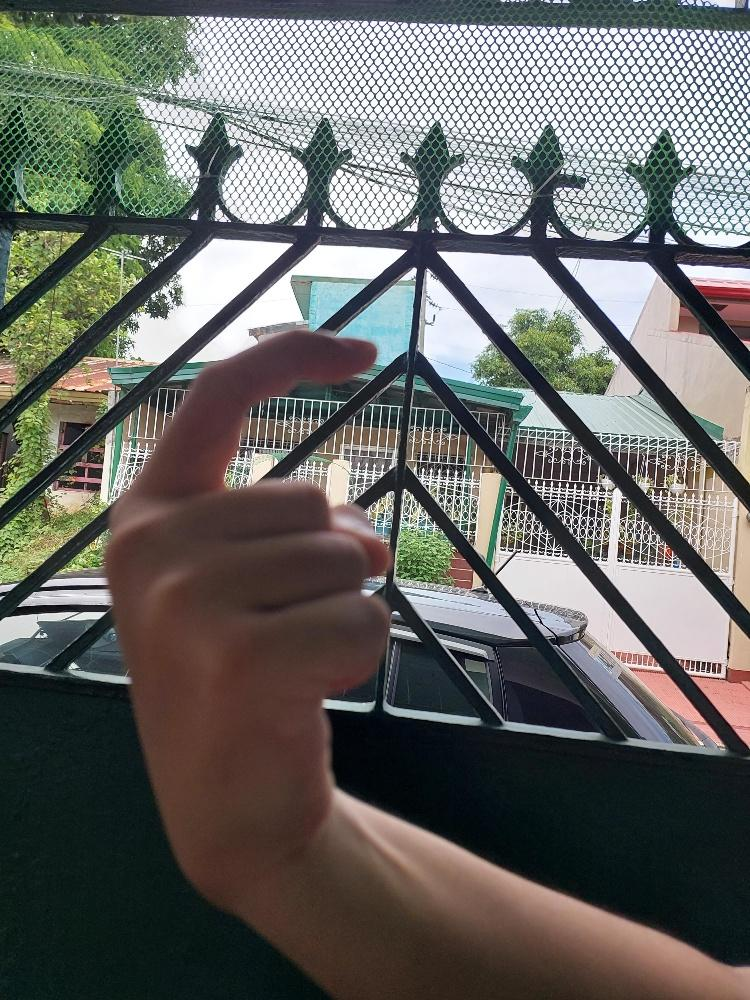x: (98, 324, 395, 897)
